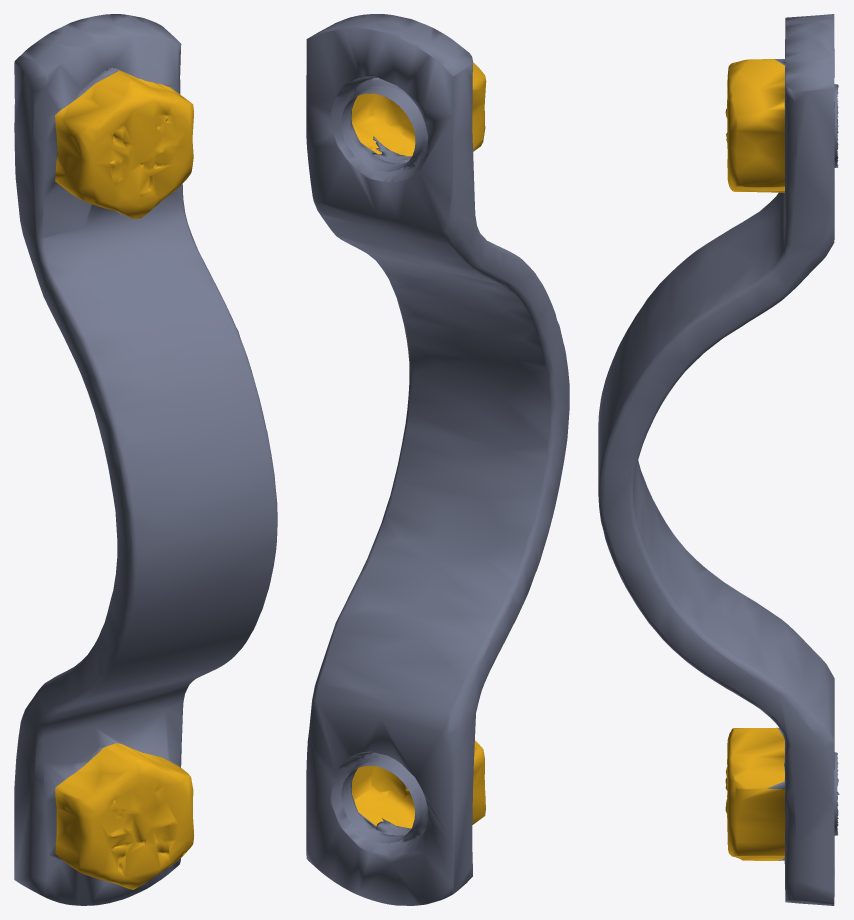
Rendered from clamp.fbx.
3 views of the same model, side by side, from view 1: azimuth 30°, elevation 25°; view 2: azimuth 150°, elevation 25°; view 3: azimuth 270°, elevation 25° (orthographic).
Visible parts, largest first — view 1: clamp; view 2: clamp; view 3: clamp.
Part boxes in pixels (x1,y1,x2,y2): clamp: [14, 14, 277, 905]; clamp: [306, 14, 569, 905]; clamp: [598, 14, 839, 905].
Bounding box in the file's own units: 0.6284 × 0.8959 × 3.55.
